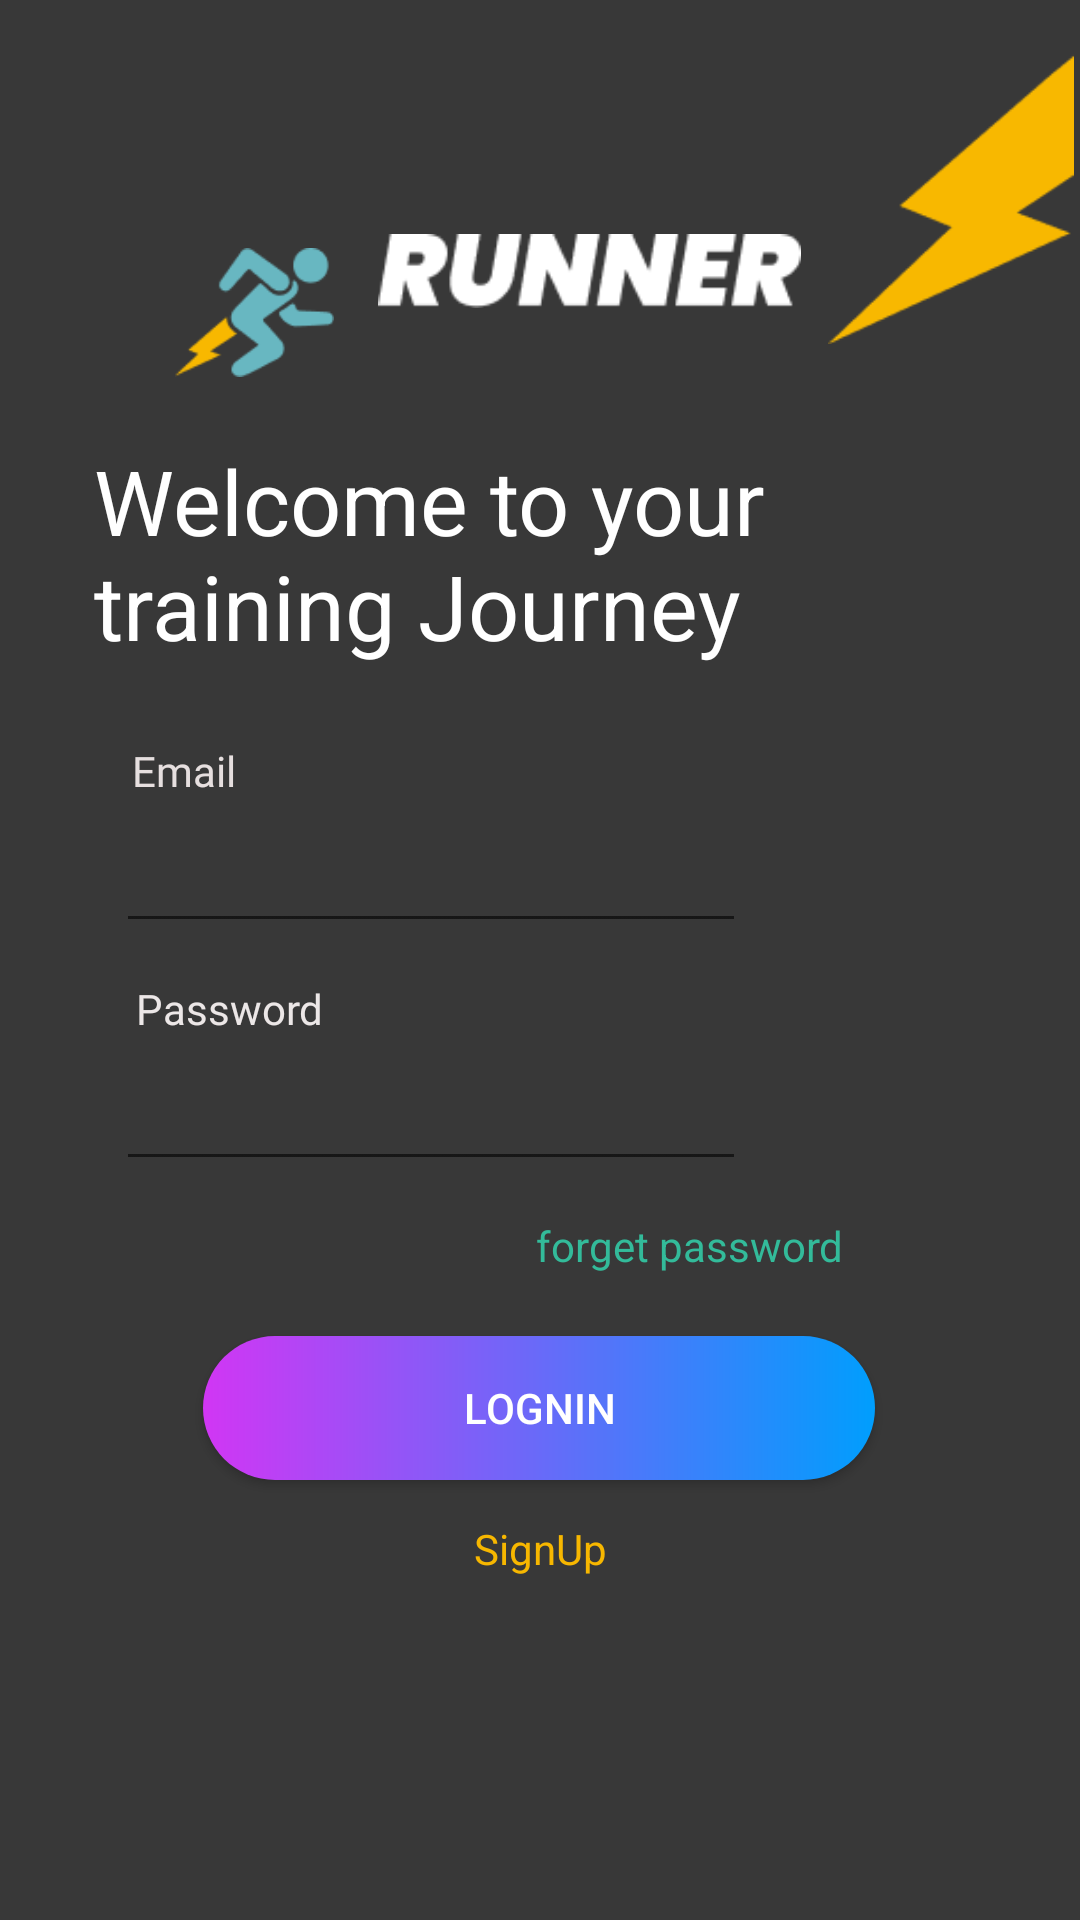

Named icons in this screenshot (1080x1920) and their centers, point (x, y):
bolt: point (951, 200)
